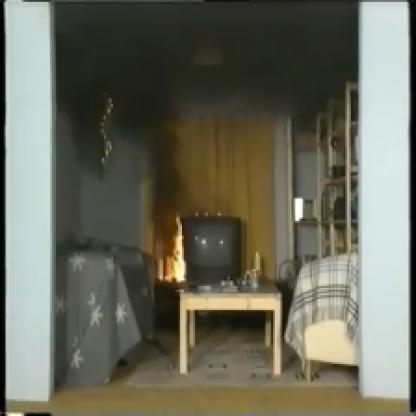fire: (162, 211, 201, 290)
